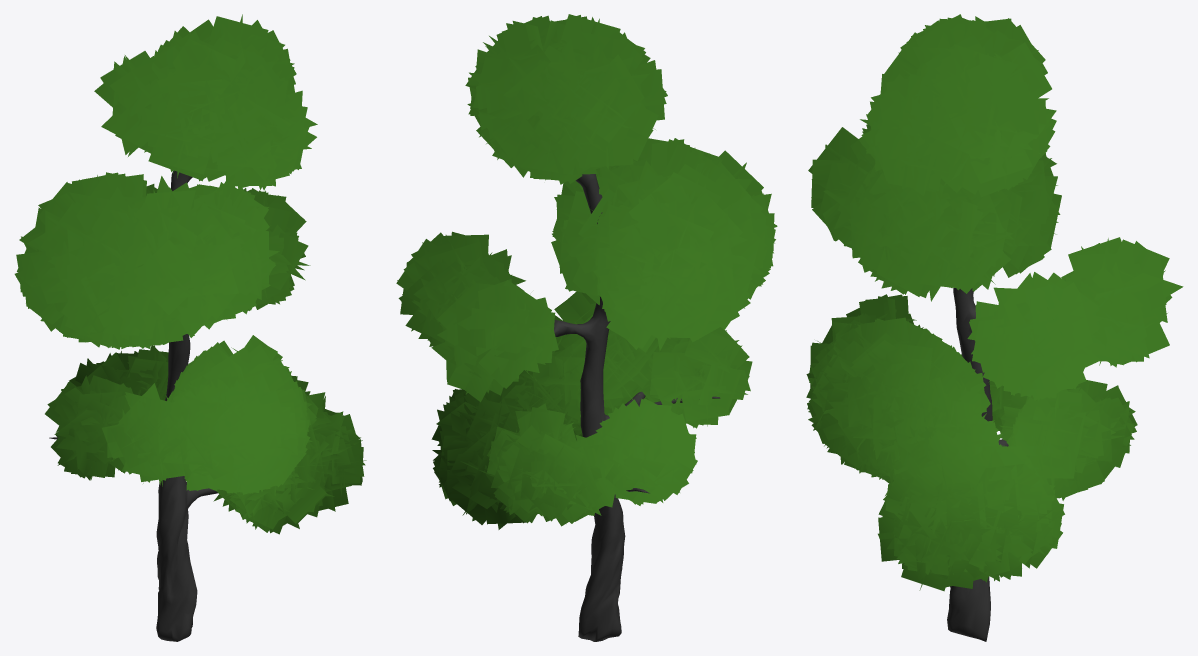
Rendered from SM_bg_tree_01.fbx.
The picture shows the model from 3 angles, left to right: view 1: azimuth 30°, elevation 25°; view 2: azimuth 150°, elevation 25°; view 3: azimuth 270°, elevation 25°; orthographic projection. The views are drawn at different scales.
Parts seen in each view (by area): view 1: bg_tree_01_leaves, Object015; view 2: bg_tree_01_leaves, Object015; view 3: bg_tree_01_leaves, Object015.
Part boxes in pixels (x1,y1,x2,y2): bg_tree_01_leaves: [14, 14, 366, 534]; Object015: [49, 170, 217, 641]; bg_tree_01_leaves: [396, 14, 777, 529]; Object015: [554, 174, 720, 641]; bg_tree_01_leaves: [806, 14, 1183, 591]; Object015: [947, 288, 1008, 641].
Bounding box in the file's own units: 909 × 1640 × 894.
